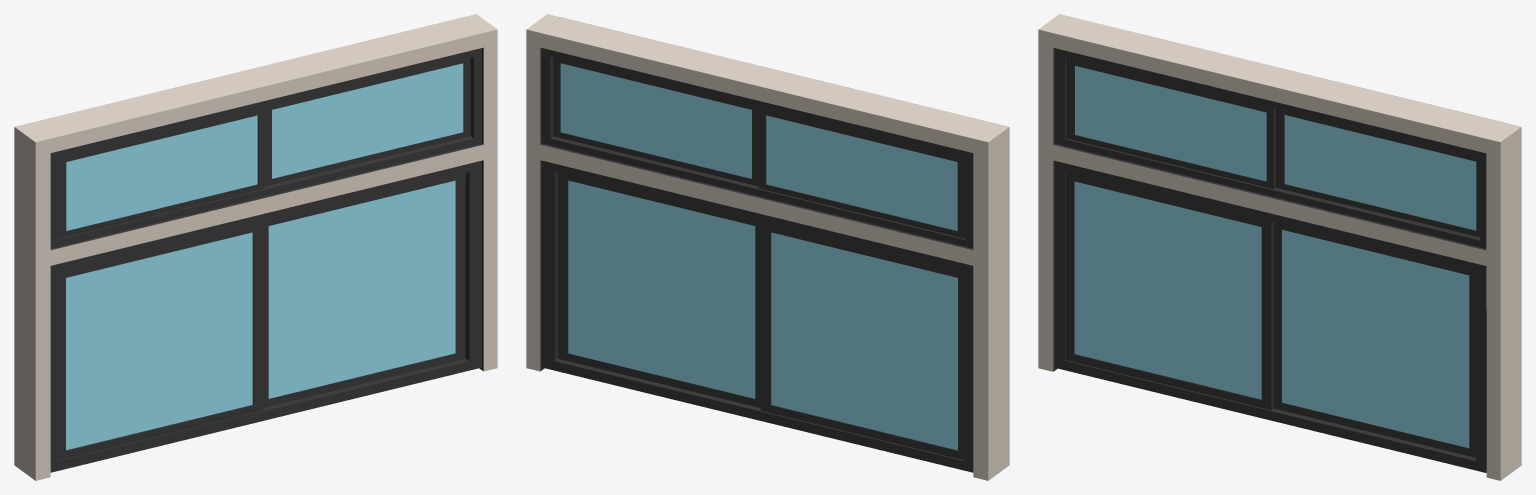
The model's file is SCH0110030.fbx.
The picture shows the model from 3 angles, left to right: view 1: azimuth 30°, elevation 25°; view 2: azimuth 150°, elevation 25°; view 3: azimuth 330°, elevation 25°; orthographic projection.
Visible parts, largest first — view 1: smSCH0110030; view 2: smSCH0110030; view 3: smSCH0110030.
Boxes of the visible parts, left/top/right/bottom form: smSCH0110030: left=14, top=14, right=497, bottom=480; smSCH0110030: left=526, top=14, right=1009, bottom=480; smSCH0110030: left=1038, top=14, right=1521, bottom=480.
Bounding box in the file's own units: 322 × 226 × 25.61.
1 material, 1 textured.
